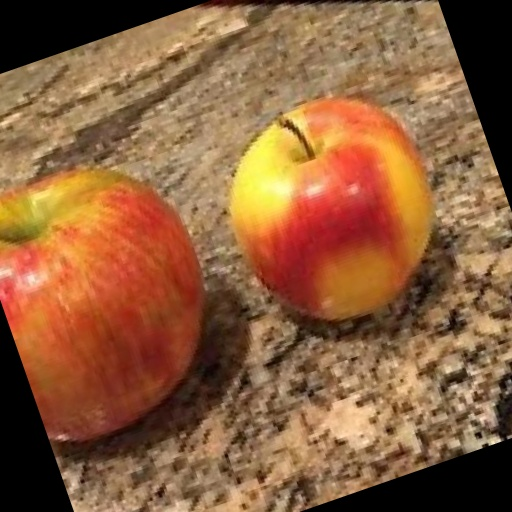fruit: (0, 87, 415, 494), (339, 52, 512, 374)
